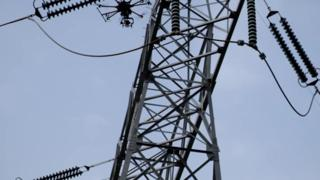UAV: (97, 0, 152, 29)
